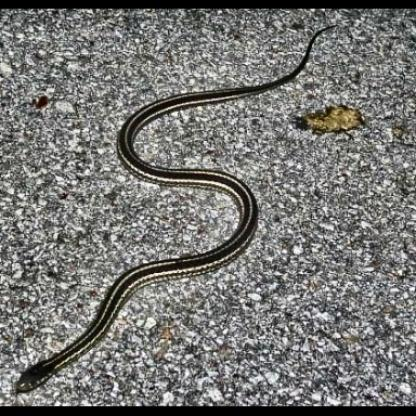Snake: (102, 93, 260, 336), (8, 319, 110, 398)
